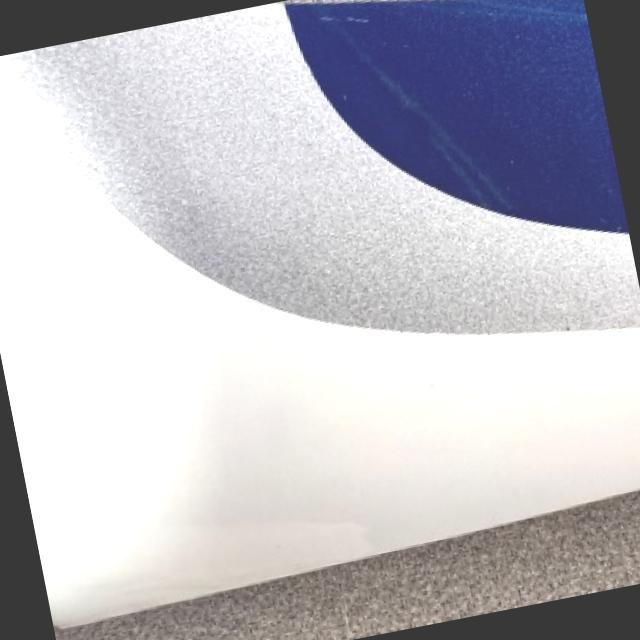healthy: (0, 54, 640, 624)
